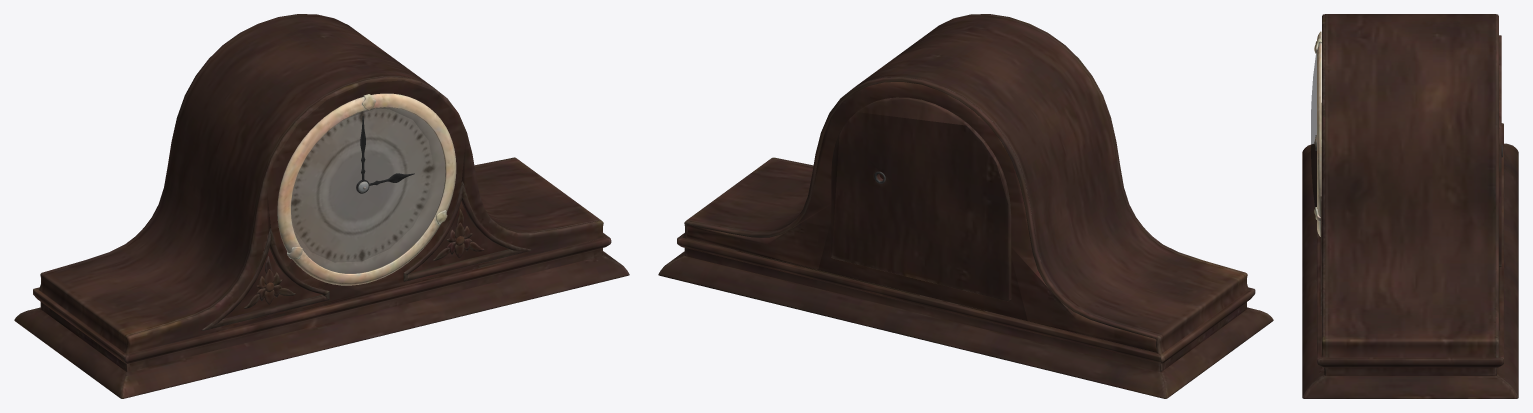
File: mantelclock.glb
3 views of the same model, side by side, from view 1: azimuth 30°, elevation 25°; view 2: azimuth 150°, elevation 25°; view 3: azimuth 270°, elevation 25° (orthographic).
Visible parts, largest first — view 1: mantel_clock_01, mantel_clock_01_glass; view 2: mantel_clock_01; view 3: mantel_clock_01, mantel_clock_01_glass.
Part boxes in pixels (<box>): mantel_clock_01: <box>14,14,629,398</box>; mantel_clock_01_glass: <box>291,107,445,273</box>; mantel_clock_01: <box>658,14,1273,398</box>; mantel_clock_01: <box>1302,14,1518,398</box>; mantel_clock_01_glass: <box>1311,53,1316,207</box>.
Size of the model in its own units: 0.3423 by 0.1605 by 0.1261.
Materials: 2 (2 with a texture image).
